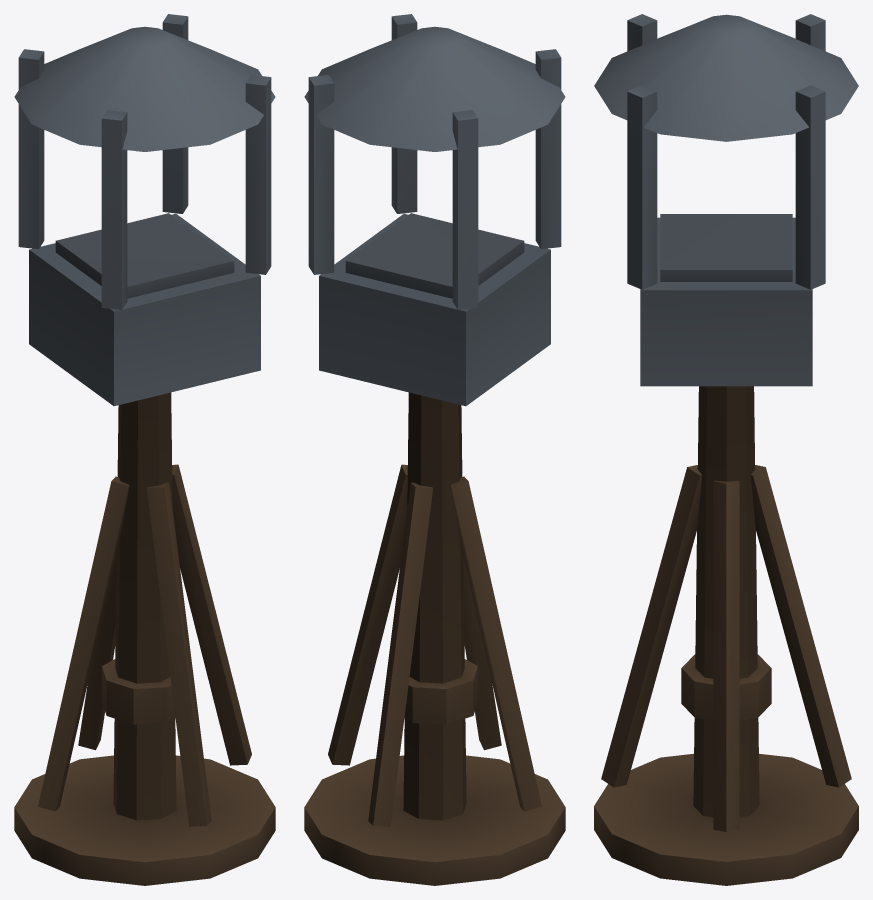
Rendered from nav-lights.glb.
The picture shows the model from 3 angles, left to right: view 1: azimuth 30°, elevation 25°; view 2: azimuth 150°, elevation 25°; view 3: azimuth 270°, elevation 25°; orthographic projection.
Parts seen in each view (by area): view 1: housing, pole; view 2: housing, pole; view 3: pole, housing.
Part boxes in pixels (x1=…): housing: x1=14, y1=14, x2=275, y2=406; pole: x1=14, y1=392, x2=275, y2=885; housing: x1=304, y1=14, x2=565, y2=406; pole: x1=304, y1=392, x2=565, y2=885; pole: x1=594, y1=386, x2=858, y2=885; housing: x1=594, y1=14, x2=858, y2=386.
Bounding box in the file's own units: 0.2 × 0.67 × 0.2.
